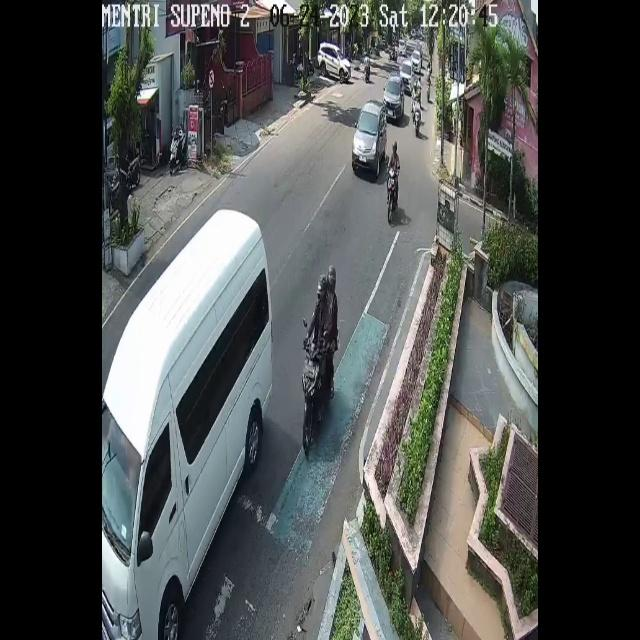bus: (302, 334, 334, 460), (387, 166, 398, 224), (412, 100, 422, 137)
car: (102, 209, 272, 640)
motorcycle: (352, 98, 385, 177), (317, 42, 353, 84), (382, 76, 403, 126), (401, 58, 414, 96)
